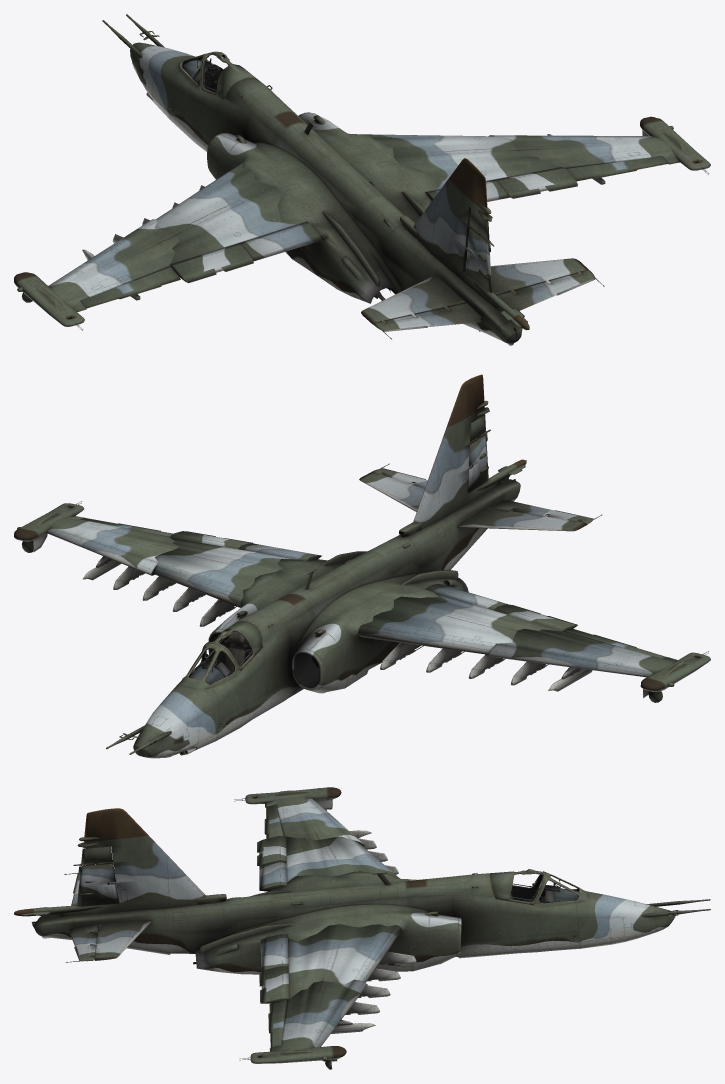
The picture shows the model from 3 angles, top to bottom: view 1: azimuth 30°, elevation 25°; view 2: azimuth 150°, elevation 25°; view 3: azimuth 270°, elevation 25°; orthographic projection. The views are drawn at different scales.
Visible parts, largest first — view 1: body|mat_1.012; view 2: body|mat_1.012; view 3: body|mat_1.012.
Boxes of the visible parts, x1,y1,x2,y2 form: body|mat_1.012: (14, 14, 710, 345); body|mat_1.012: (14, 374, 710, 758); body|mat_1.012: (14, 787, 710, 1069).
Size of the model in its own units: 14.28 by 3.71 by 15.53.
2 materials, 2 textured.
